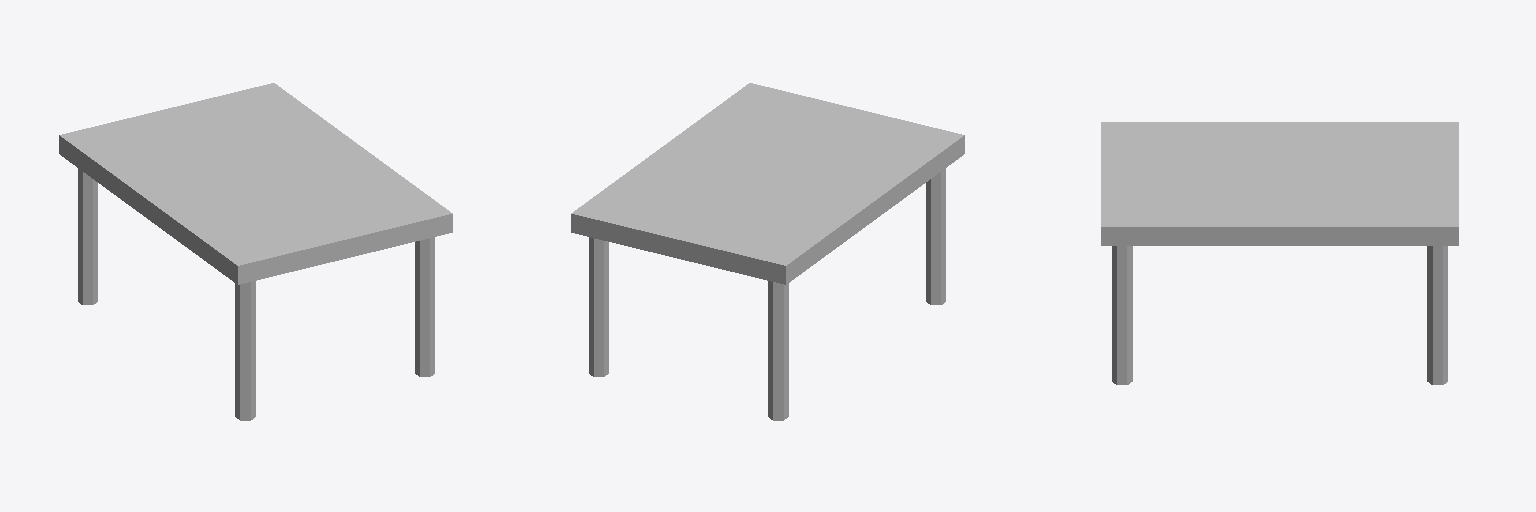
File: Small Short Table.obj
The picture shows the model from 3 angles: view 1: azimuth 30°, elevation 25°; view 2: azimuth 150°, elevation 25°; view 3: azimuth 270°, elevation 25°; orthographic projection.
Visible parts, largest first — view 1: Surface_Cube.002, Leg_Cylinder, Leg.001_Cylinder.001, Leg.003_Cylinder.003; view 2: Surface_Cube.002, Leg.003_Cylinder.003, Leg.002_Cylinder.002, Leg_Cylinder; view 3: Surface_Cube.002, Leg.001_Cylinder.001, Leg.002_Cylinder.002.
Part boxes in pixels (left/top/right/bottom): Surface_Cube.002: left=59, top=83, right=452, bottom=284; Leg_Cylinder: left=235, top=281, right=255, bottom=420; Leg.001_Cylinder.001: left=415, top=237, right=434, bottom=376; Leg.003_Cylinder.003: left=78, top=168, right=97, bottom=304; Surface_Cube.002: left=571, top=83, right=964, bottom=284; Leg.003_Cylinder.003: left=768, top=281, right=788, bottom=420; Leg.002_Cylinder.002: left=589, top=237, right=608, bottom=376; Leg_Cylinder: left=926, top=168, right=945, bottom=304; Surface_Cube.002: left=1101, top=122, right=1458, bottom=245; Leg.001_Cylinder.001: left=1112, top=246, right=1132, bottom=384; Leg.002_Cylinder.002: left=1427, top=246, right=1447, bottom=384.
Size of the model in its own units: 3.54 by 2.57 by 5.1.